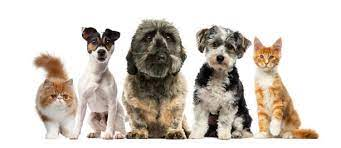cat: (253, 35, 320, 138), (32, 53, 77, 138)
dog: (123, 19, 188, 137), (189, 24, 252, 137), (79, 27, 122, 138)
